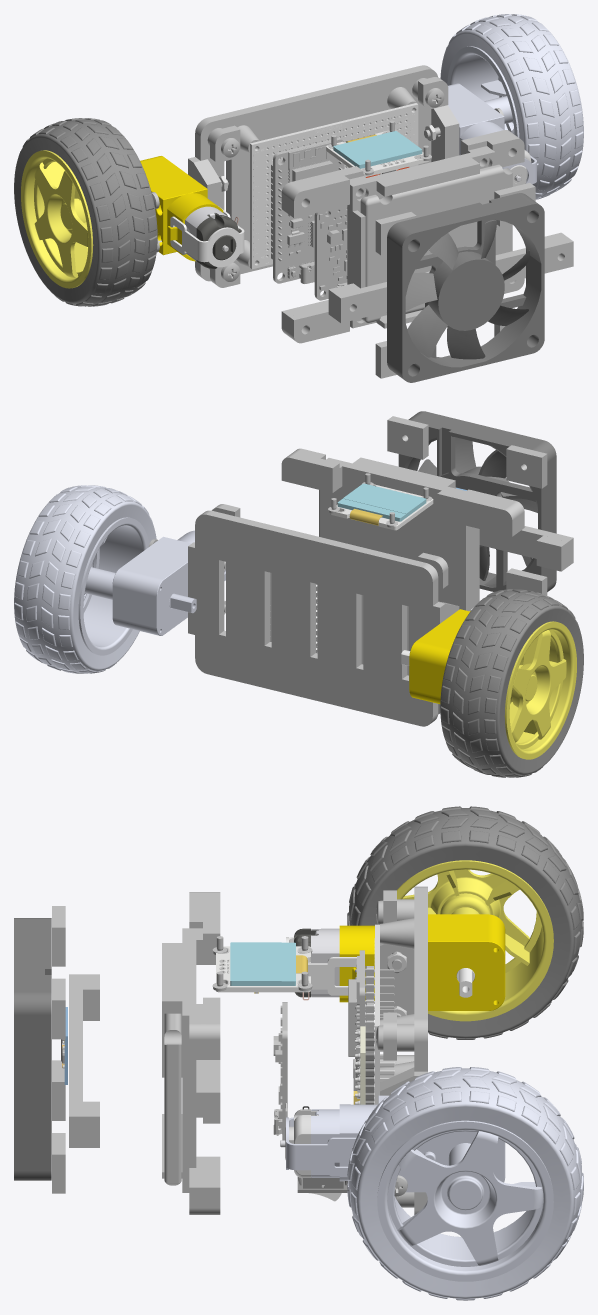
Rendered from Self-Balancing-Robot-Internals.glb.
3 views of the same model, one above another, from view 1: azimuth 30°, elevation 25°; view 2: azimuth 150°, elevation 25°; view 3: azimuth 270°, elevation 25° (orthographic). The views are drawn at different scales.
Parts seen in each view (by area): view 1: Imported1, Body1.020, Imported1.001, Body3.004, Body1.021, Imported2, Body1.034, Body1, Body1.035, Nody^Mini Gear DC Motor 6 V Yellow.STEP-1-solid1, Body1.036, Body184 (+19 smaller); view 2: Body3.004, Imported1, Imported1.001, Body1.035, Imported2, Body1.020, Nody^Mini Gear DC Motor 6 V Yellow.STEP-1-solid1.001, Imported2.001, Nody^Mini Gear DC Motor 6 V Yellow.STEP-1-solid1, Body1.021, Body1.046, Body1.003 (+12 smaller); view 3: Imported1.001, Imported2.001, Imported1, Body1.020, Imported2, Nody^Mini Gear DC Motor 6 V Yellow.STEP-1-solid1, Body1.035, Body3.004, Body1.034, Nody^Mini Gear DC Motor 6 V Yellow.STEP-1-solid1.001, Body1.003, Body1.036 (+23 smaller).
Part boxes in pixels (x1=…): Imported1: x1=14, y1=118, x2=157, y2=306; Body1.020: x1=387, y1=193, x2=544, y2=382; Imported1.001: x1=440, y1=14, x2=583, y2=199; Body3.004: x1=195, y1=65, x2=437, y2=281; Body1.021: x1=405, y1=220, x2=529, y2=359; Imported2: x1=21, y1=150, x2=93, y2=288; Body1.034: x1=360, y1=164, x2=512, y2=323; Body1: x1=250, y1=103, x2=418, y2=269; Body1.035: x1=347, y1=146, x2=495, y2=328; Nody^Mini Gear DC Motor 6 V Yellow.STEP-1-solid1: x1=140, y1=156, x2=223, y2=261; Body1.036: x1=335, y1=237, x2=573, y2=323; Body184: x1=273, y1=138, x2=344, y2=283; Body3.004: x1=195, y1=510, x2=438, y2=726; Imported1: x1=440, y1=589, x2=583, y2=777; Imported1.001: x1=14, y1=485, x2=156, y2=673; Body1.035: x1=323, y1=457, x2=479, y2=611; Imported2: x1=504, y1=621, x2=576, y2=759; Body1.020: x1=398, y1=411, x2=556, y2=591; Nody^Mini Gear DC Motor 6 V Yellow.STEP-1-solid1.001: x1=112, y1=530, x2=194, y2=635; Imported2.001: x1=78, y1=517, x2=149, y2=655; Nody^Mini Gear DC Motor 6 V Yellow.STEP-1-solid1: x1=409, y1=609, x2=470, y2=703; Body1.021: x1=418, y1=437, x2=537, y2=580; Body1.046: x1=456, y1=493, x2=518, y2=536; Body1.003: x1=337, y1=483, x2=426, y2=521; Imported1.001: x1=347, y1=1067, x2=583, y2=1300; Imported2.001: x1=377, y1=1120, x2=553, y2=1281; Imported1: x1=347, y1=806, x2=583, y2=1039; Body1.020: x1=14, y1=918, x2=51, y2=1180; Imported2: x1=397, y1=860, x2=553, y2=1021; Nody^Mini Gear DC Motor 6 V Yellow.STEP-1-solid1: x1=339, y1=914, x2=505, y2=1010; Body1.035: x1=162, y1=928, x2=202, y2=1192; Body3.004: x1=380, y1=886, x2=427, y2=1214; Body1.034: x1=164, y1=1013, x2=181, y2=1185; Nody^Mini Gear DC Motor 6 V Yellow.STEP-1-solid1.001: x1=339, y1=1095, x2=505, y2=1192; Body1.003: x1=230, y1=942, x2=295, y2=985; Body1.036: x1=69, y1=974, x2=82, y2=1147.
Bounding box in the file's own units: 0.2043 × 0.0712 × 0.1659.
